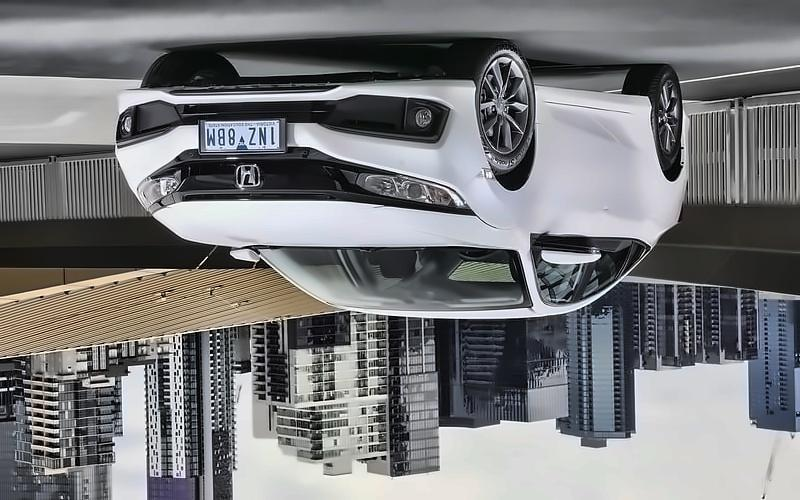Car hood: (151, 201, 524, 253)
Driver-s door - -F-R-: (522, 73, 605, 319)
Fender - -F-R-: (457, 132, 560, 277)
Fender - -R-R-: (627, 141, 703, 259)
Front bumper: (107, 73, 484, 189)
Headlight - -L-: (135, 164, 184, 214)
Headlight - -R-: (356, 166, 476, 218)
Passenger-s door - -R-R-: (581, 74, 658, 310)
Side bumper - -R-: (532, 83, 660, 139)
Side mirror - -R-: (530, 227, 604, 273)
